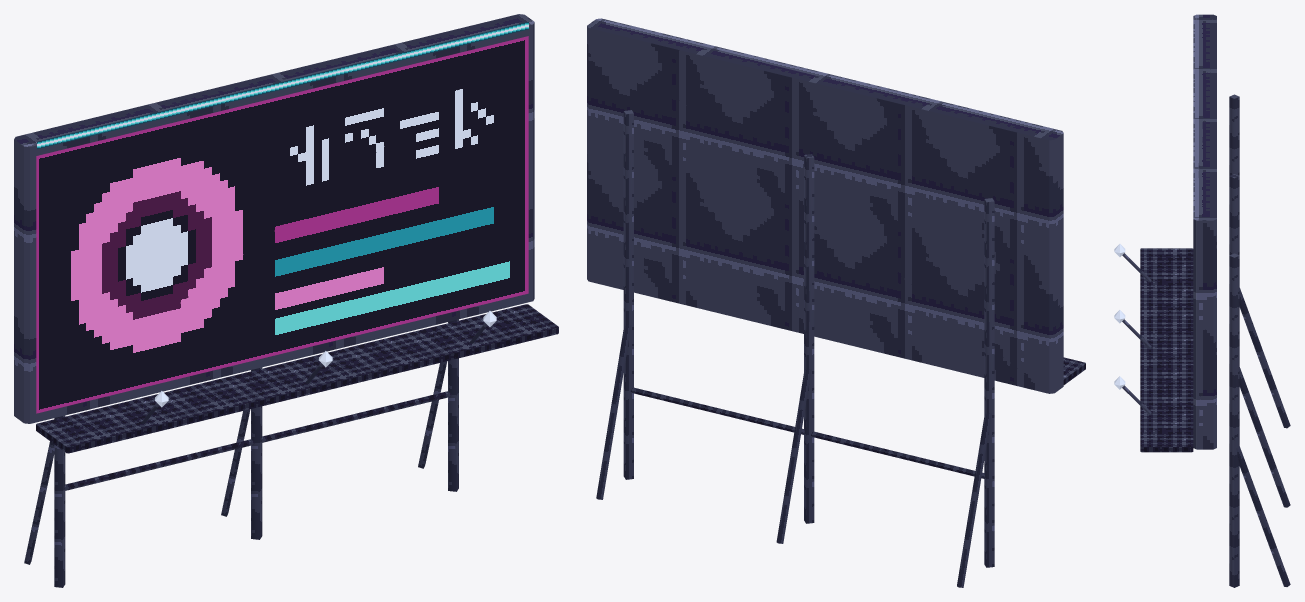
The model's file is cysign.billboard.glb.
The picture shows the model from 3 angles, left to right: view 1: azimuth 30°, elevation 25°; view 2: azimuth 150°, elevation 25°; view 3: azimuth 270°, elevation 25°; orthographic projection. The views are drawn at different scales.
Visible parts, largest first — view 1: kit_card_face, kit_panel, kit_truss; view 2: kit_panel, kit_truss; view 3: kit_panel, kit_truss.
Part boxes in pixels (x1,y1,x2,y2): kit_card_face: [36, 21, 528, 413]; kit_panel: [14, 14, 558, 453]; kit_truss: [24, 311, 496, 587]; kit_panel: [587, 18, 1085, 393]; kit_truss: [596, 110, 994, 587]; kit_panel: [1140, 14, 1216, 452]; kit_truss: [1114, 94, 1290, 587].
Size of the model in its own units: 8.3 by 7.4 by 3.
5 materials, 5 textured.
